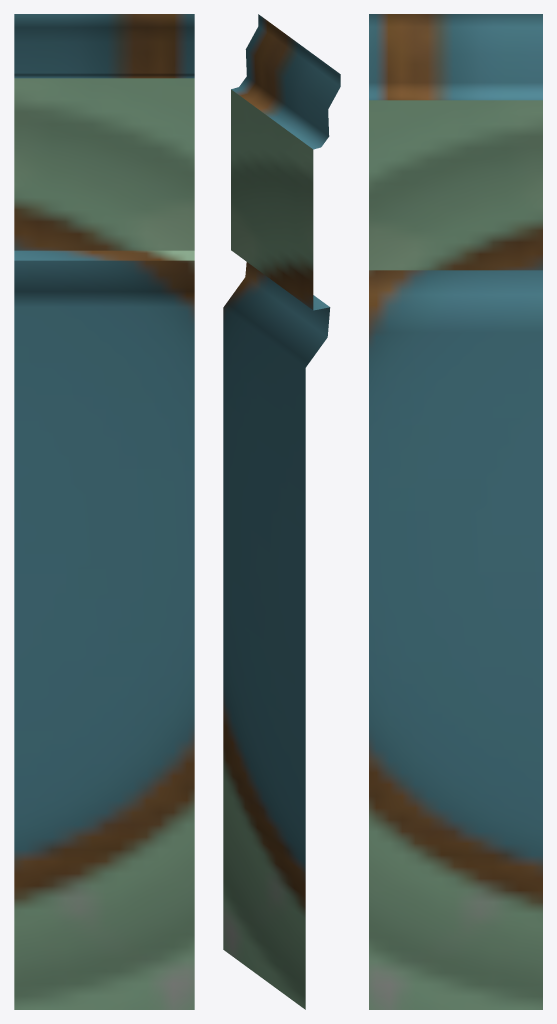
The model's file is qVin_Buld1_F2Trim2_left.fbx.
3 views of the same model, side by side, from view 1: azimuth 90°, elevation 25°; view 2: azimuth 210°, elevation 25°; view 3: azimuth 270°, elevation 25° (orthographic). The views are drawn at different scales.
Visible parts, largest first — view 1: qVin_Buld1_F2Trim2_left; view 2: qVin_Buld1_F2Trim2_left; view 3: qVin_Buld1_F2Trim2_left.
Boxes of the visible parts, box(x1,y1,x2,y2) form: qVin_Buld1_F2Trim2_left: box(14, 14, 194, 1009); qVin_Buld1_F2Trim2_left: box(223, 14, 340, 1009); qVin_Buld1_F2Trim2_left: box(369, 14, 542, 1009).
Size of the model in its own units: 12.26 by 310 by 49.97.
Materials: 1 (1 with a texture image).
